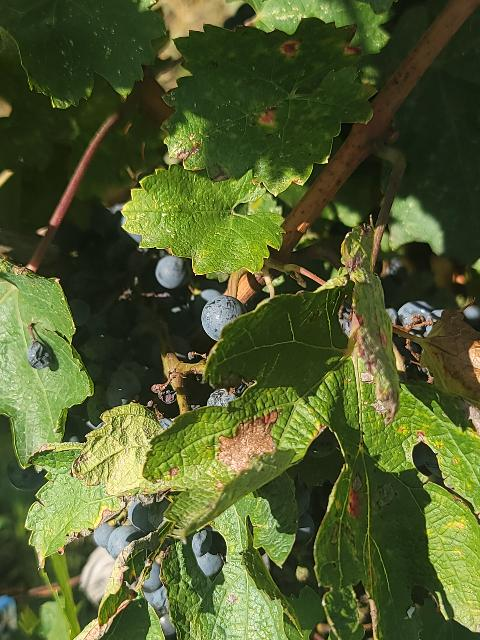grapes: (39, 201, 222, 441), (95, 499, 169, 559), (142, 561, 176, 640), (191, 526, 226, 579)
